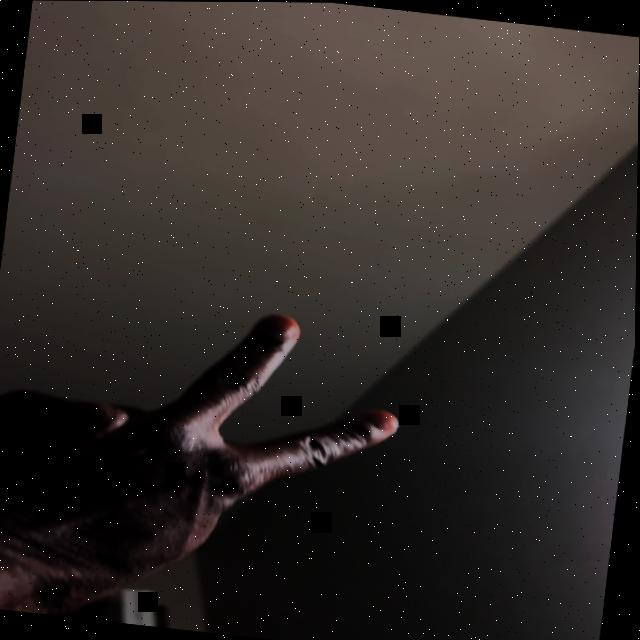Scissors: (0, 283, 410, 640)
